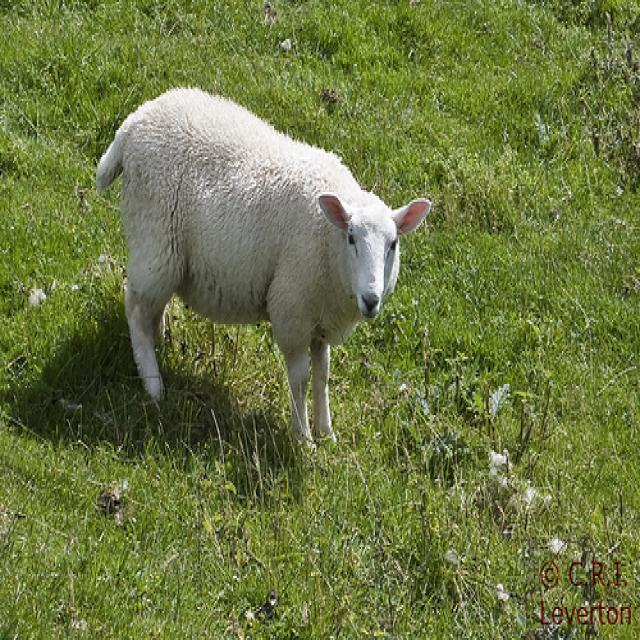sheep: (95, 86, 433, 453)
